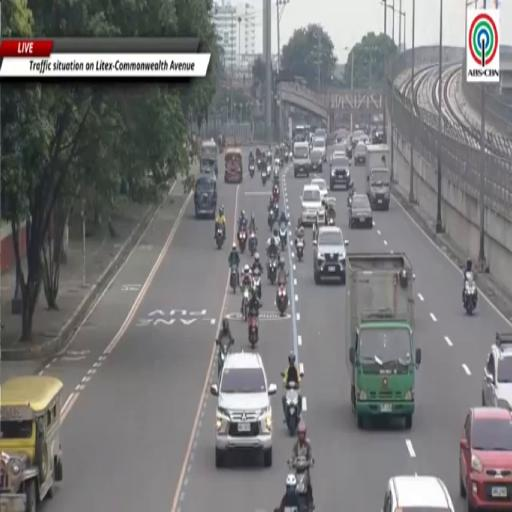car: (211, 352, 276, 468), (460, 408, 511, 510), (382, 475, 454, 511), (482, 333, 511, 408), (313, 227, 348, 283), (194, 174, 217, 218), (301, 185, 324, 225), (348, 194, 373, 228), (330, 154, 350, 190), (294, 142, 310, 178), (312, 138, 326, 162), (311, 179, 327, 199), (310, 149, 323, 172), (354, 141, 366, 165), (330, 147, 345, 166), (352, 131, 365, 149), (331, 147, 345, 162), (315, 128, 327, 138)
jeepney: (0, 376, 62, 511), (200, 139, 218, 177), (225, 149, 242, 183)
motorcycle: (289, 457, 314, 511), (285, 382, 300, 436), (216, 340, 233, 378), (464, 277, 477, 315), (276, 284, 288, 316), (248, 314, 259, 348), (242, 286, 251, 321), (268, 259, 277, 284), (254, 268, 261, 299), (230, 266, 238, 293), (279, 223, 287, 250), (238, 228, 247, 252), (216, 224, 224, 249), (295, 237, 303, 261), (249, 232, 257, 255), (268, 208, 275, 230), (261, 167, 267, 185), (273, 188, 279, 204), (273, 201, 278, 219), (274, 157, 282, 167), (327, 216, 335, 226), (249, 163, 254, 178), (267, 164, 271, 178), (257, 158, 261, 171), (279, 157, 283, 168), (348, 196, 352, 207), (289, 151, 293, 161), (285, 152, 288, 163)
truck: (346, 253, 421, 428), (366, 144, 390, 211)
